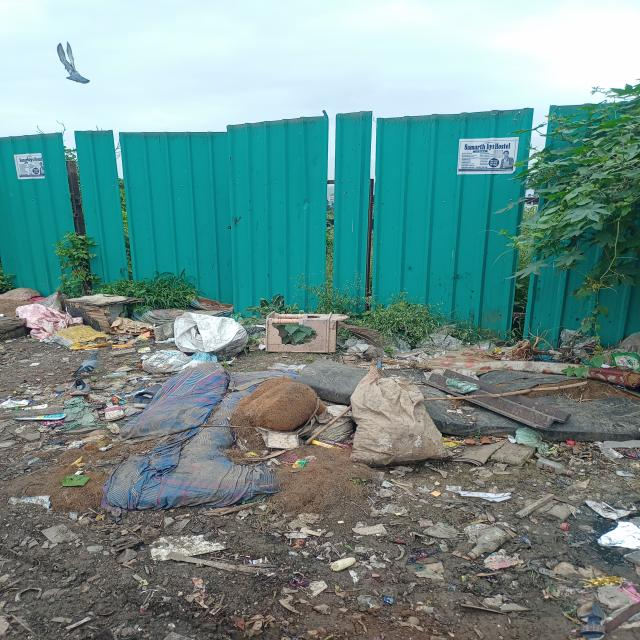garbage: (95, 366, 640, 499), (2, 285, 349, 364), (365, 313, 640, 381)
